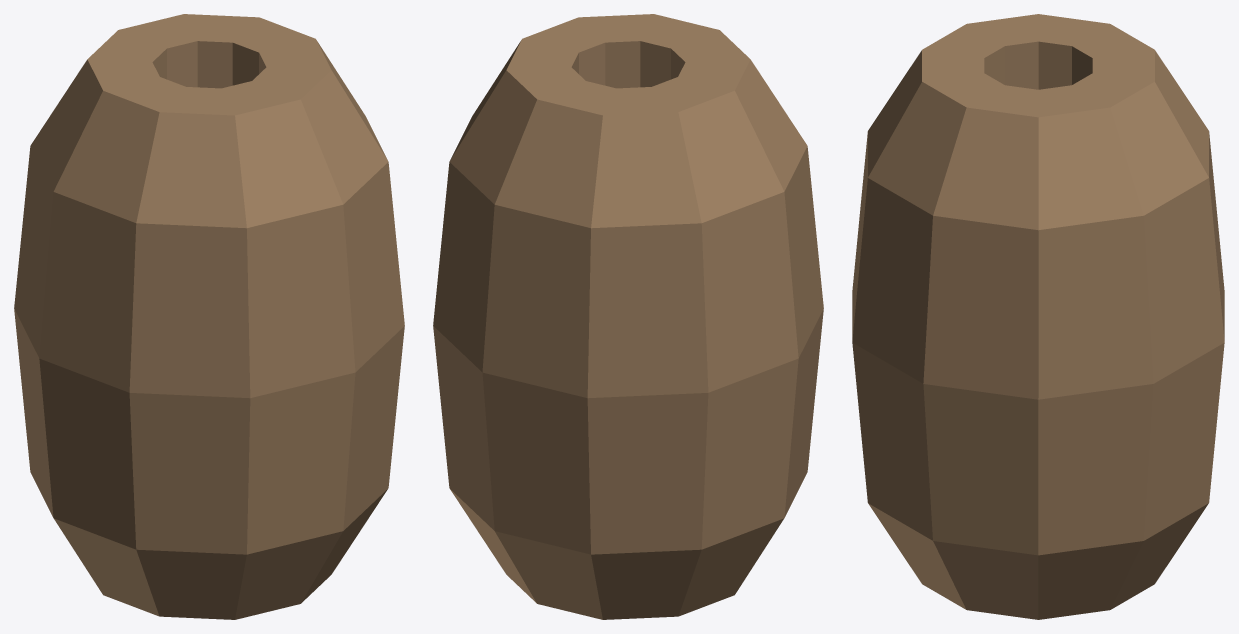
Rendered from prop-hub-blank.fbx.
The picture shows the model from 3 angles, left to right: view 1: azimuth 30°, elevation 25°; view 2: azimuth 150°, elevation 25°; view 3: azimuth 270°, elevation 25°; orthographic projection.
Visible parts, largest first — view 1: prop-hub-blank; view 2: prop-hub-blank; view 3: prop-hub-blank.
Part boxes in pixels (<box>): prop-hub-blank: <box>14,14,404,619</box>; prop-hub-blank: <box>433,14,823,619</box>; prop-hub-blank: <box>852,14,1224,619</box>.
Size of the model in its own units: 24 by 34 by 22.83.
